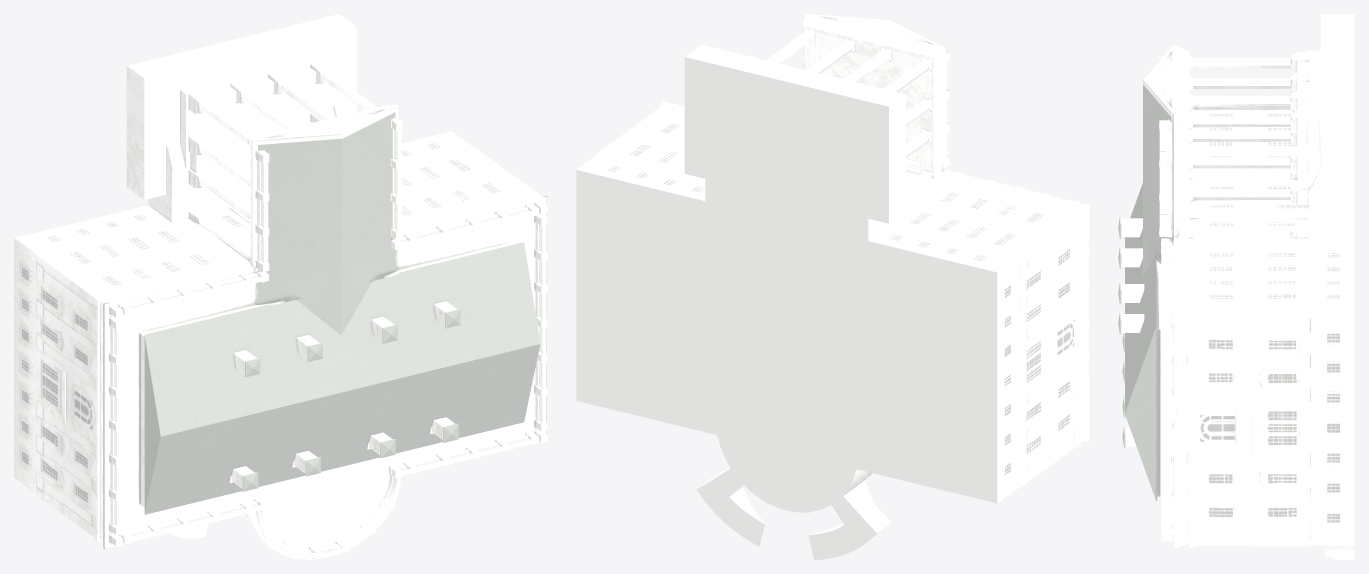
3 views of the same model, side by side, from view 1: azimuth 30°, elevation 25°; view 2: azimuth 150°, elevation 25°; view 3: azimuth 270°, elevation 25° (orthographic). The views are drawn at different scales.
Parts seen in each view (by area): view 1: 10090_white_house_v1_L1; view 2: 10090_white_house_v1_L1; view 3: 10090_white_house_v1_L1.
Boxes of the visible parts, x1,y1,x2,y2 form: 10090_white_house_v1_L1: (14,14,547,559); 10090_white_house_v1_L1: (576,14,1089,559); 10090_white_house_v1_L1: (1118,14,1354,559).
Bounding box in the file's own units: 5518 × 5824 × 2607.
1 material, 1 textured.
